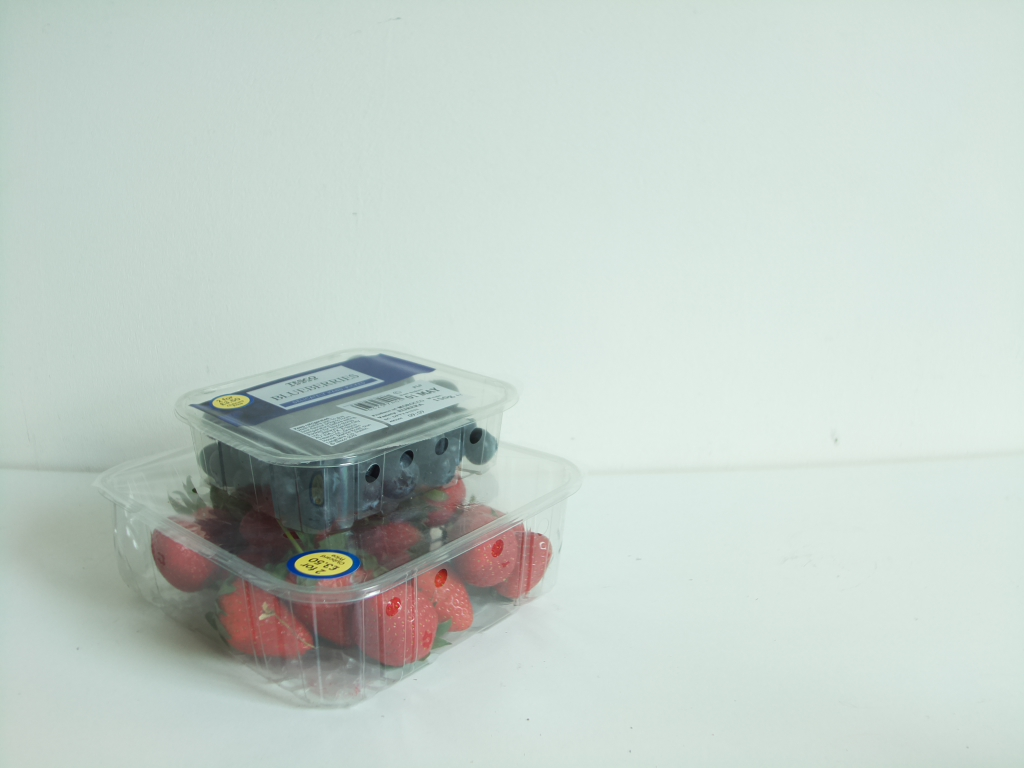soft-fruit: (73, 435, 584, 717), (173, 345, 515, 538)
